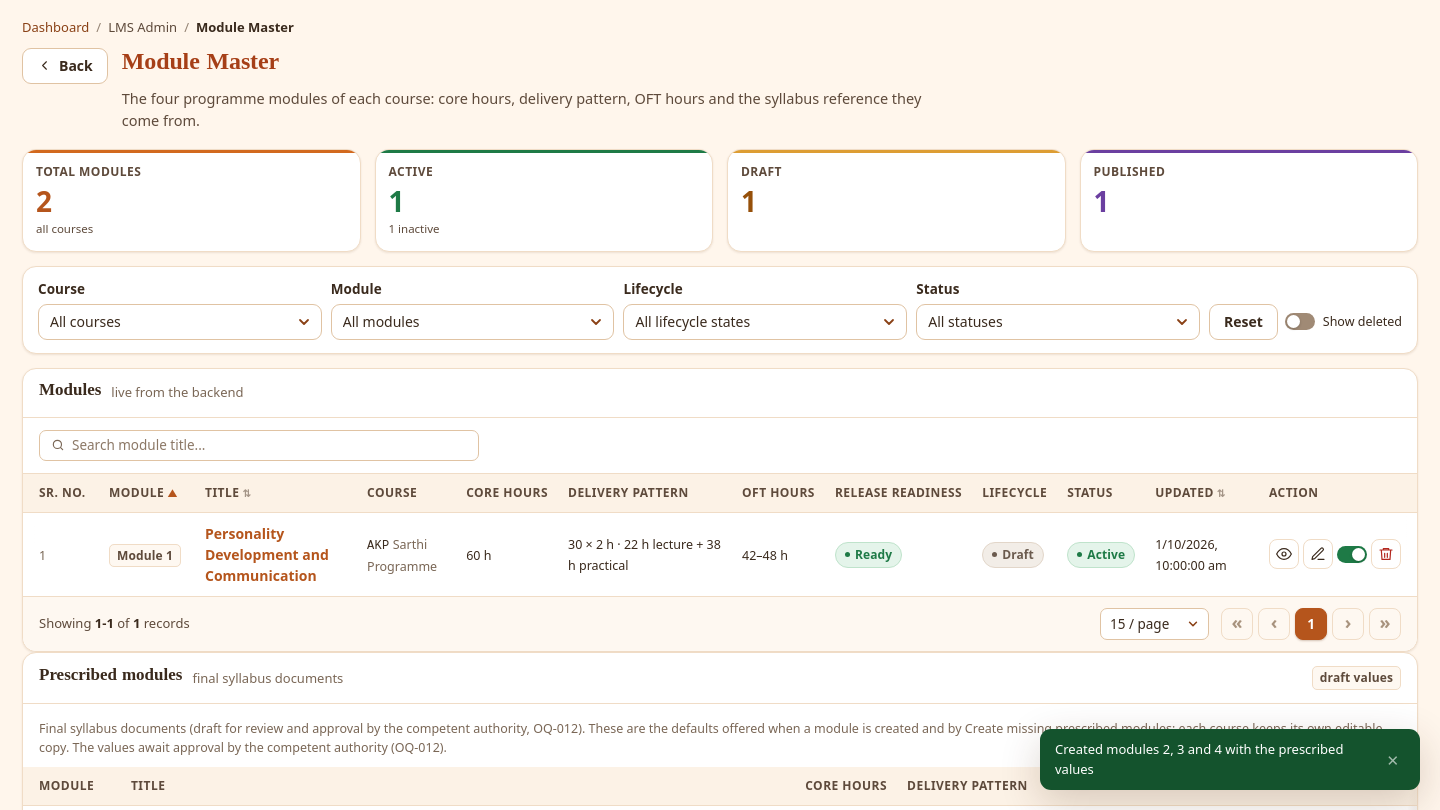
Test case: <CourseModuleList> › lists the deleted modules with a Deleted badge; Restore asks first, shows a 409 answer, then restores and reloads
Expected: the text "Personality Development and Communication" is shown, [205,524,329,585]
Click the switch named "Show deleted": (1300, 322) [1285,313,1315,330]
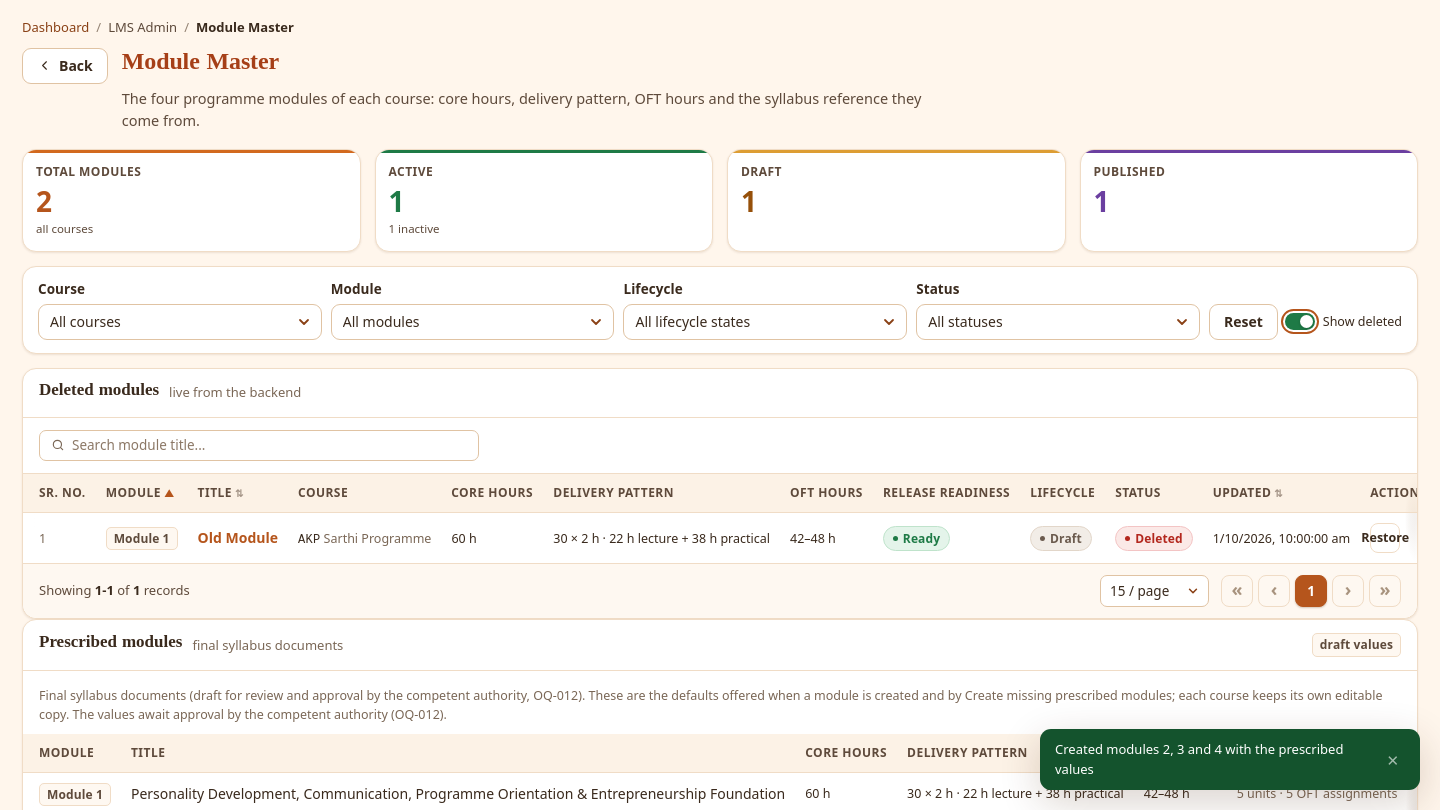
Result: the text "Deleted" is shown at [1115,526,1193,551]
Result: the heading "Deleted modules live from the backend" is shown at [39,379,301,406]
Click the button with aria-label "Restore Old Module": (1385, 538) [1370,523,1400,553]
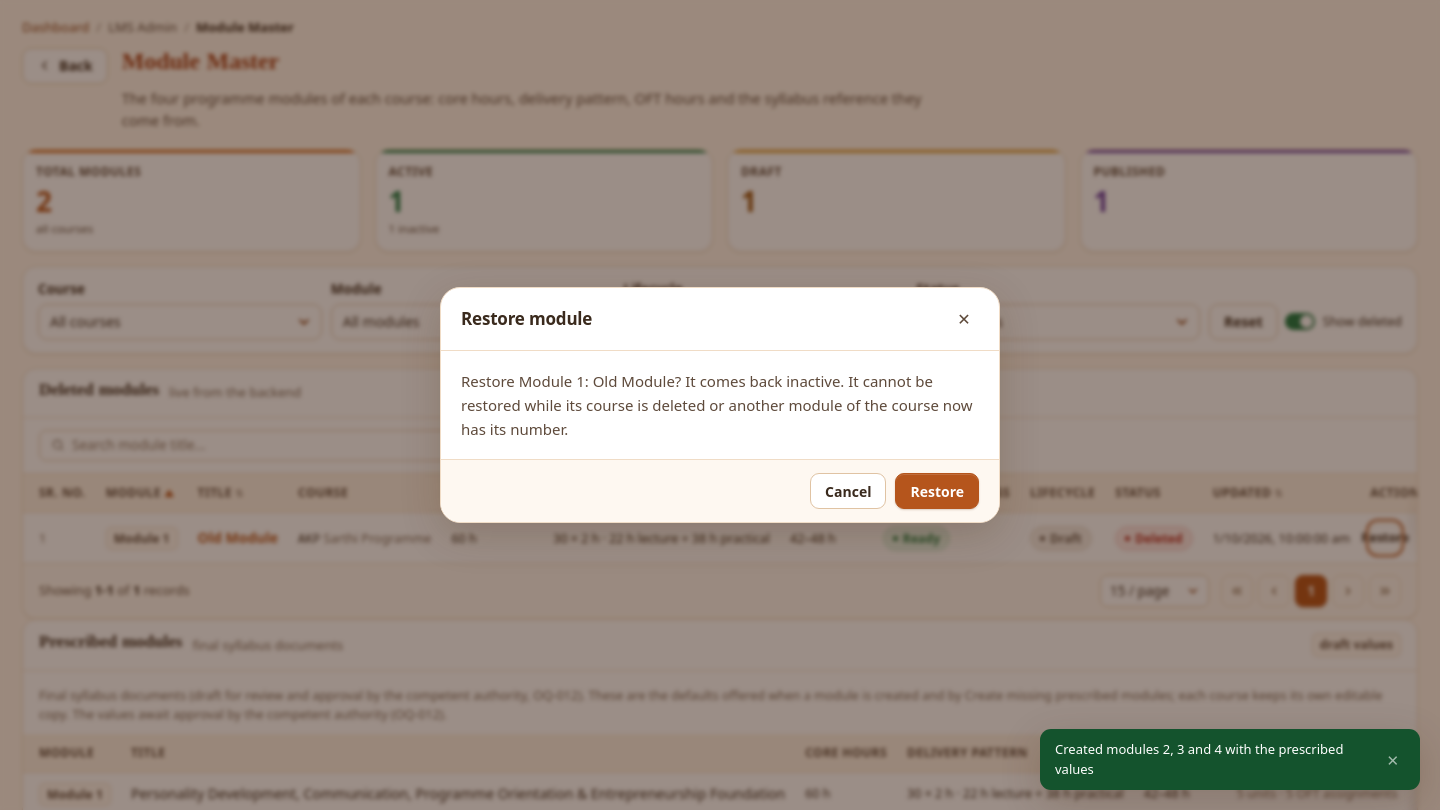
Result: the dialog shows "Restore Module 1: Old Module?" at [461,371,973,439]
Click the button "Restore": (937, 491) [895,473,979,509]
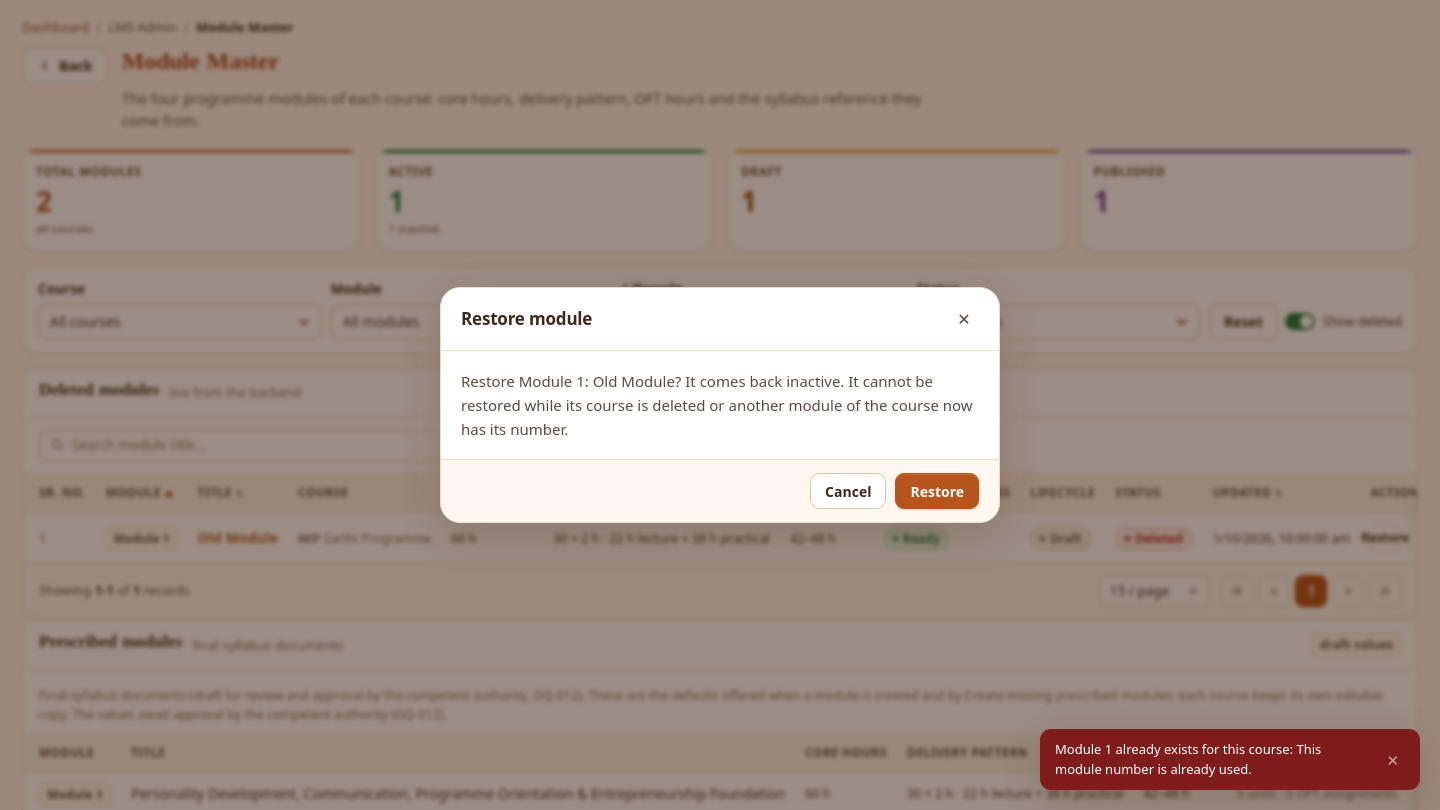
Result: the text "Module 1 already exists for this course" is shown at [1055,740,1321,778]
Click the button "Restore": (937, 491) [895,473,979,509]
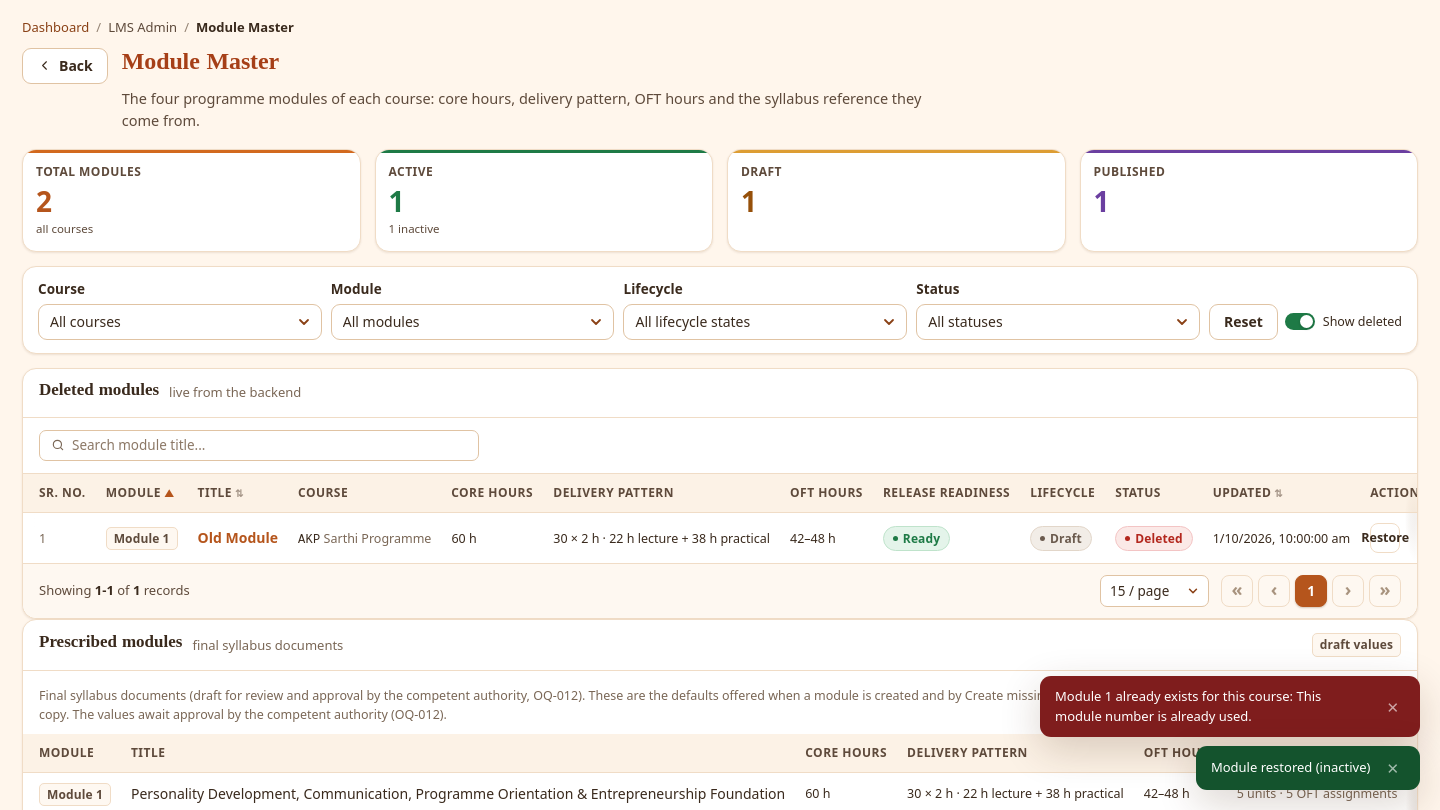
Result: the dialog is gone
